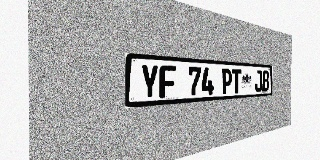4: (201, 67, 214, 95)
7: (188, 67, 201, 96)
B: (262, 70, 269, 91)
F: (159, 65, 176, 98)
J: (255, 70, 262, 92)
P: (221, 68, 232, 94)
T: (232, 69, 241, 93)
Y: (140, 64, 159, 100)
